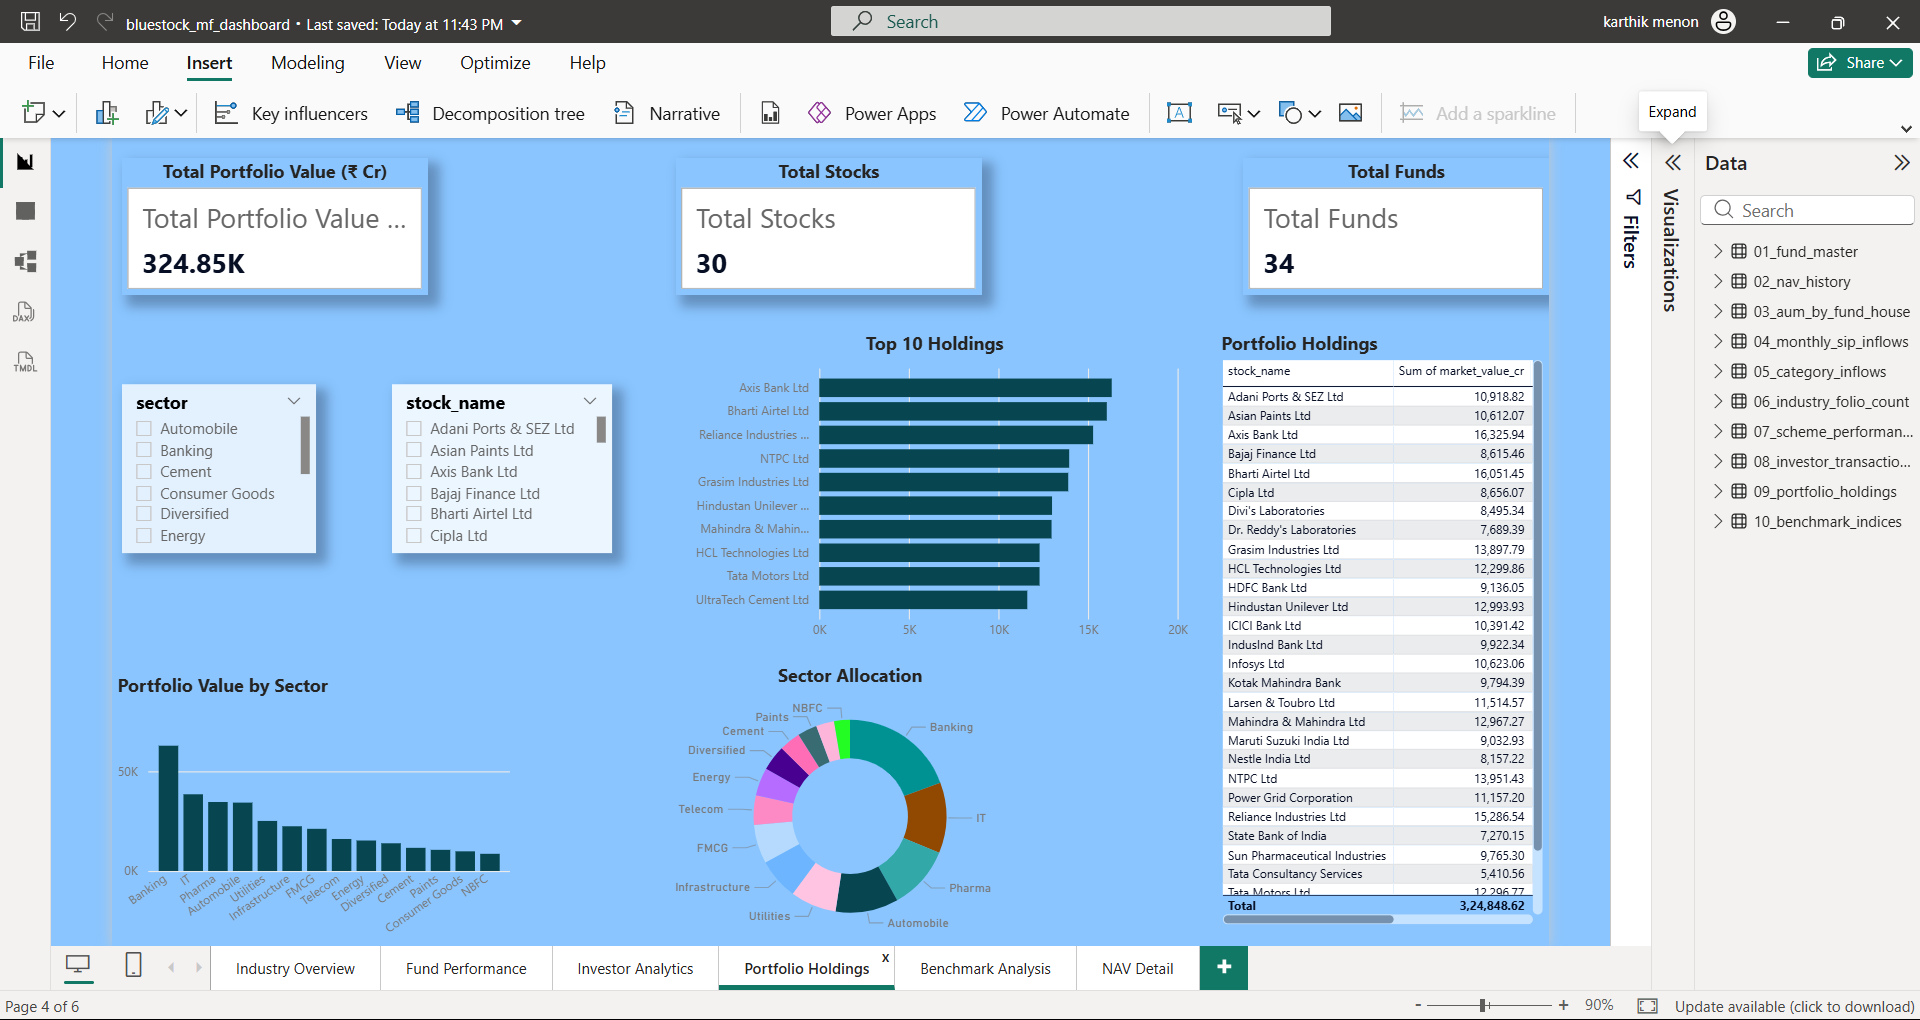

Layout of this report page (visuals, bound fields, positions):
{"tool":"powerbi","page":{"name":"Portfolio Holdings","canvas":[1280,720],"ordinal":3},"visuals":[{"type":"cardVisual","title":"Total Portfolio Value (₹ Cr)","fields":{"Data":["Sum(09_portfolio_holdings.market_value_cr)"]},"box":[8.6,18.3,272.7,122.3],"z":0},{"type":"cardVisual","title":"Total Stocks","fields":{"Data":["Count(09_portfolio_holdings.stock_name)"]},"box":[502.6,18.3,272.7,122.3],"z":1000},{"type":"cardVisual","title":"Total Funds","fields":{"Data":["Count(09_portfolio_holdings.amfi_code)"]},"box":[1007.6,18.3,272.7,122.3],"z":2000},{"type":"slicer","fields":{"Values":["09_portfolio_holdings.sector"]},"box":[8.6,218.9,172.4,150.4],"z":3000},{"type":"slicer","fields":{"Values":["09_portfolio_holdings.stock_name"]},"box":[249.5,218.9,195.7,150.4],"z":4000},{"type":"clusteredBarChart","title":"Top 10 Holdings","fields":{"Category":["09_portfolio_holdings.stock_name"],"Y":["Sum(09_portfolio_holdings.market_value_cr)"]},"box":[502.2,171.5,461.1,284],"z":5000},{"type":"donutChart","title":"Sector Allocation","fields":{"Category":["09_portfolio_holdings.sector"],"Y":["Sum(09_portfolio_holdings.market_value_cr)"]},"box":[424,466.6,466.6,253.9],"z":6000},{"type":"clusteredColumnChart","title":"Portfolio Value by Sector","fields":{"Category":["09_portfolio_holdings.sector"],"Y":["Sum(09_portfolio_holdings.market_value_cr)"]},"box":[0,474.8,359.5,245.6],"z":7000},{"type":"tableEx","title":"Portfolio Holdings","fields":{"Values":["09_portfolio_holdings.stock_name","Sum(09_portfolio_holdings.market_value_cr)","Sum(09_portfolio_holdings.weight_pct)","Sum(09_portfolio_holdings.current_price_inr)"]},"box":[982.5,171.5,296.4,533.8],"z":8000}]}

Visuals, with their boxes on the page's 1280x720 design canvas (x1, y1, x2, y2). These are canvas units, not pixel positions in the 1920x1020 screenshot, which may show the page scaled, cropped or inside an application window:
"Total Portfolio Value (₹ Cr)" cardVisual: 9/18/281/141
"Total Stocks" cardVisual: 503/18/775/141
"Total Funds" cardVisual: 1008/18/1280/141
slicer - 09_portfolio_holdings.sector: 9/219/181/369
slicer - 09_portfolio_holdings.stock_name: 250/219/445/369
"Top 10 Holdings" clusteredBarChart: 502/172/963/456
"Sector Allocation" donutChart: 424/467/891/720
"Portfolio Value by Sector" clusteredColumnChart: 0/475/360/720
"Portfolio Holdings" tableEx: 982/172/1279/705
